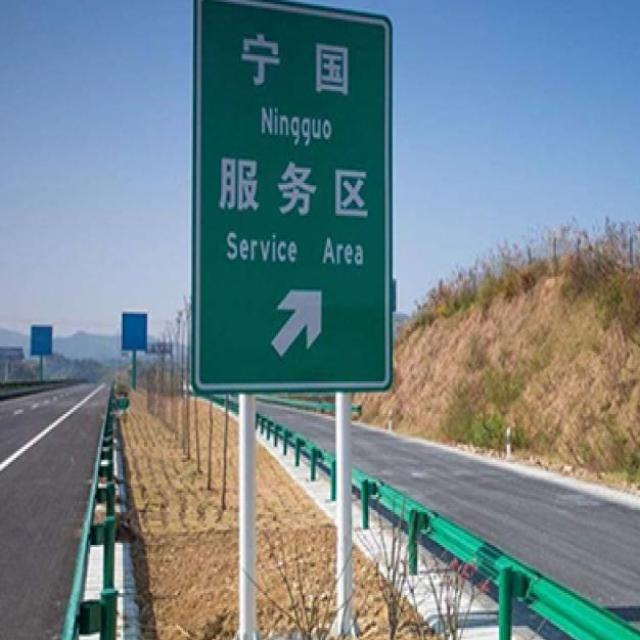Guard rail: (352, 470, 640, 640), (61, 391, 115, 640), (258, 413, 336, 481)
